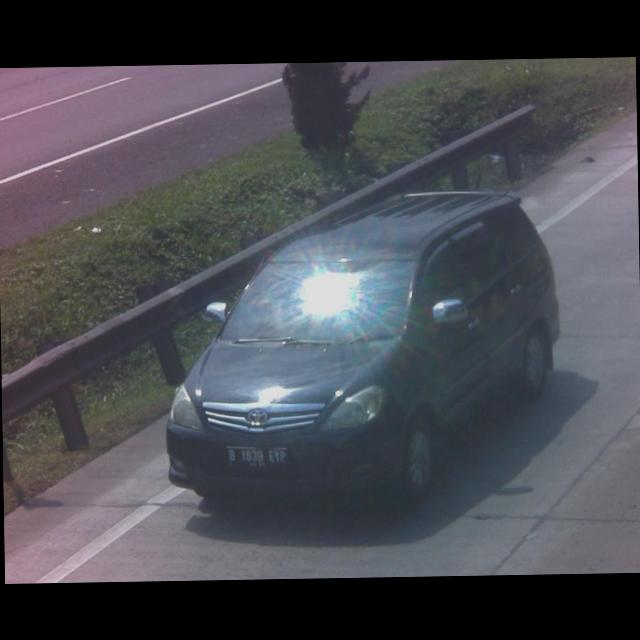plate: (224, 446, 290, 468)
